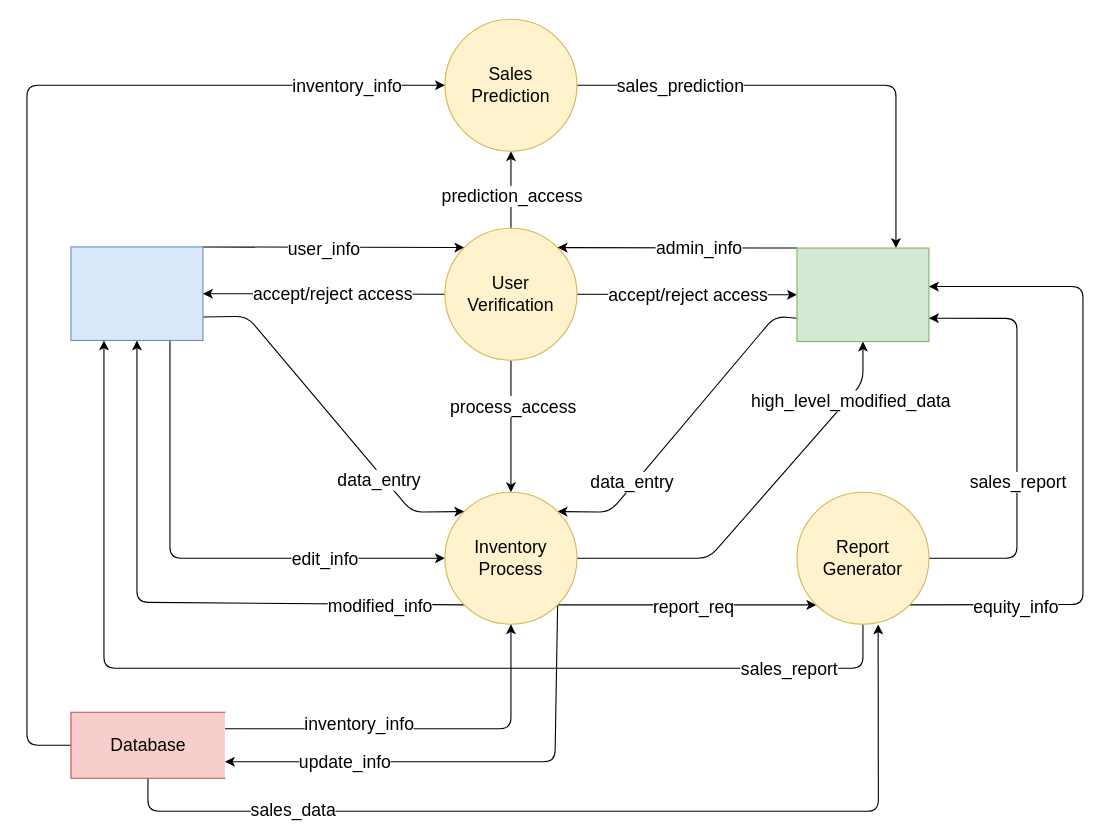
Image size: 1111x839. Some labels were removed from this diagram. Each missing label, with the centre of its shape:
"Administration" goes at (862,294).
"User" goes at (136,293).
